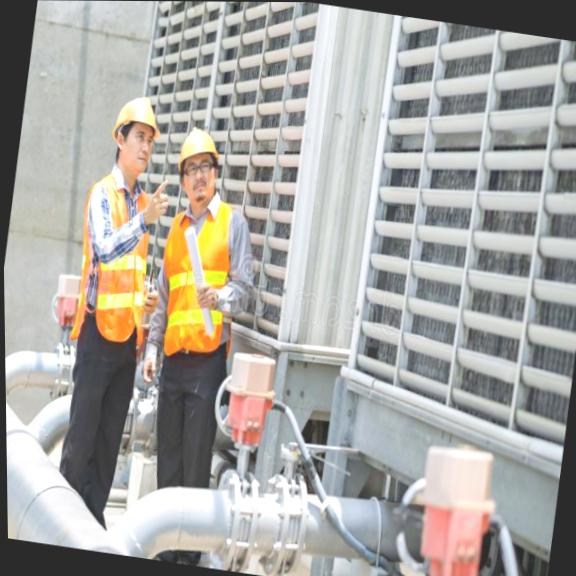safety_vest: (56, 165, 161, 372), (149, 186, 251, 367)
